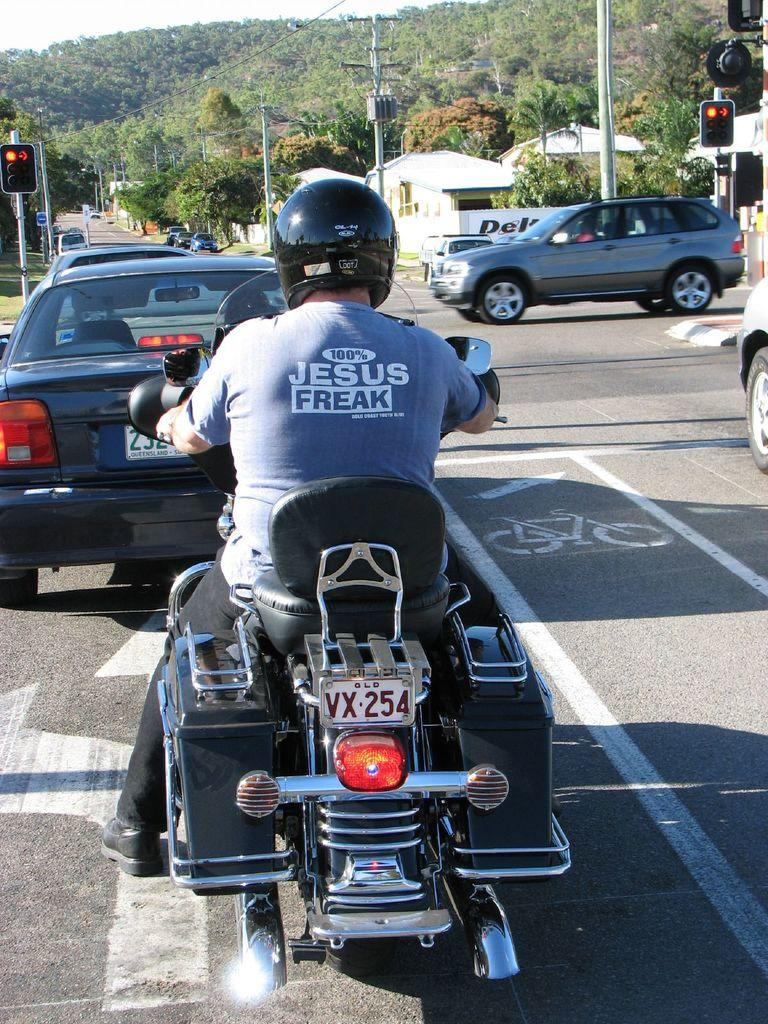helmet: (273, 178, 399, 312)
